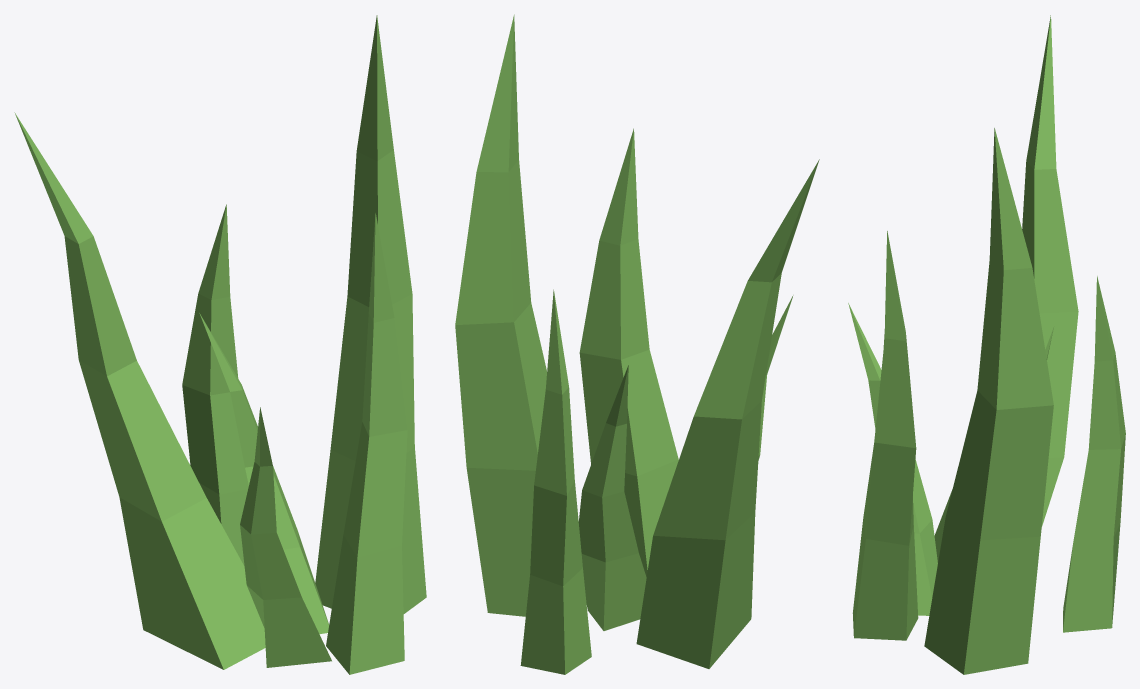
Rendered from Tall Grass.fbx.
3 views of the same model, side by side, from view 1: azimuth 30°, elevation 25°; view 2: azimuth 150°, elevation 25°; view 3: azimuth 270°, elevation 25° (orthographic). The views are drawn at different scales.
Visible parts, largest first — view 1: Tall_Grass; view 2: Tall_Grass; view 3: Tall_Grass.
Part boxes in pixels (<box>): Tall_Grass: <box>14,15,426,674</box>; Tall_Grass: <box>455,14,819,674</box>; Tall_Grass: <box>848,15,1125,674</box>.
Bounding box in the file's own units: 1.96 × 2.94 × 1.39.
